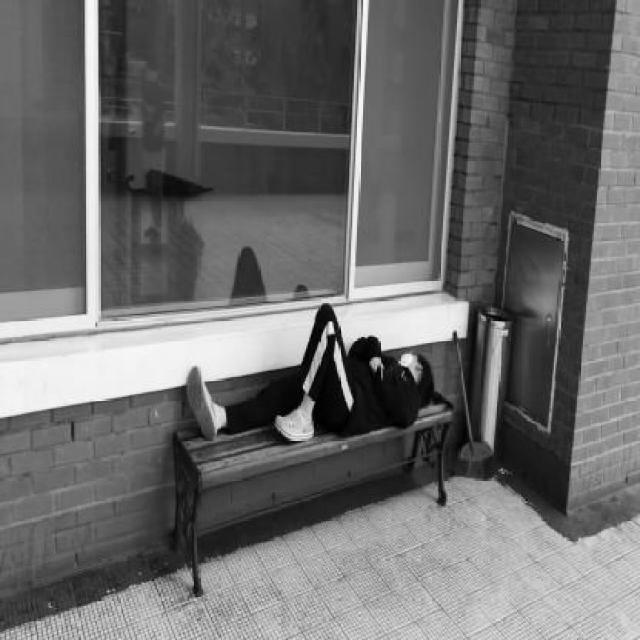person: (185, 302, 438, 444)
